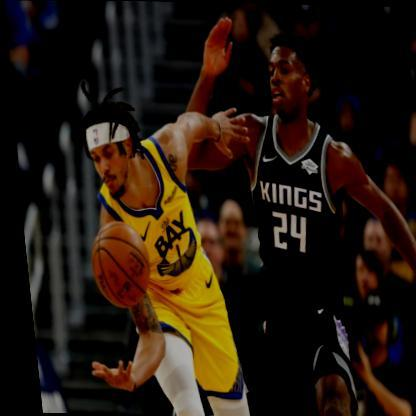basketball: (82, 221, 148, 308)
